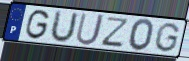G: (152, 22, 181, 54), (24, 9, 51, 41)
O: (127, 18, 156, 53)
U: (74, 12, 106, 47), (48, 9, 79, 44)
Z: (99, 16, 131, 49)
